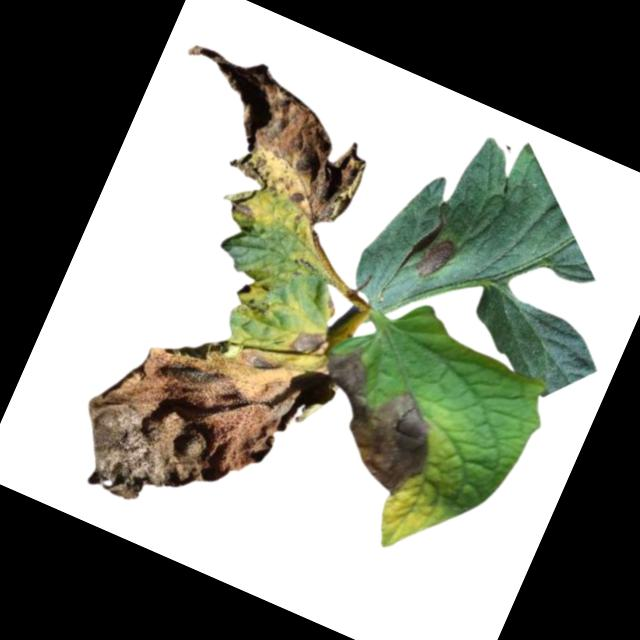Early_blight: (58, 297, 307, 545), (134, 33, 393, 258), (286, 341, 458, 504), (413, 231, 457, 285), (287, 323, 328, 362), (235, 281, 254, 300)
